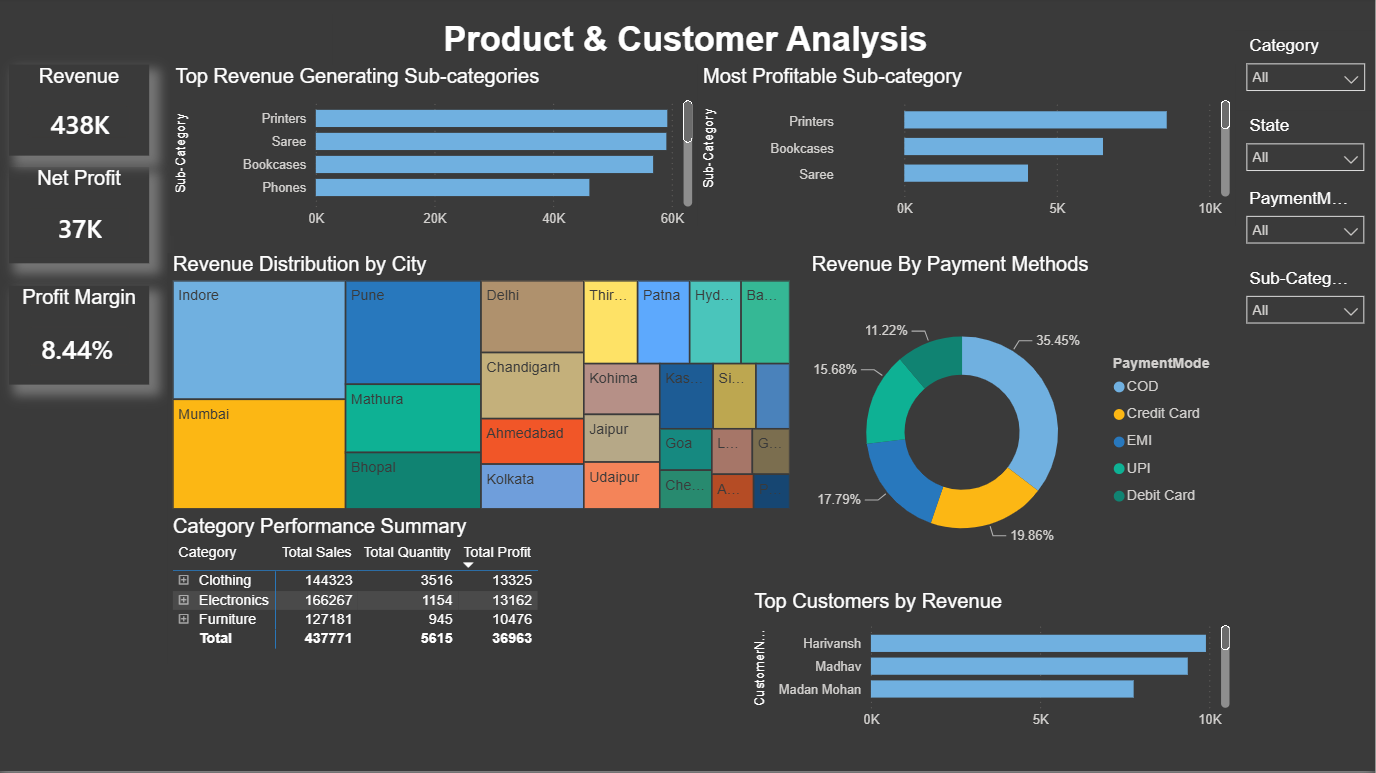

The dashboard page shown, as its layout file describes it:
{"tool":"powerbi","page":{"name":"Product & Customer Analysis","canvas":[1280,720],"ordinal":1},"visuals":[{"type":"textbox","box":[310.6,16.5,656.5,58.8],"z":0},{"type":"cardVisual","title":"Net Profit","fields":{"Data":["Orders.Total Profit"]},"box":[9.3,158.1,130.2,89.5],"z":1000},{"type":"cardVisual","title":"Profit Margin ","fields":{"Data":["Orders.Profit Margin"]},"box":[9.3,268.6,130.2,91.9],"z":2000},{"type":"cardVisual","title":"Revenue","fields":{"Data":["Orders.Total Sales"]},"box":[9.3,62.8,130.2,84.9],"z":3000},{"type":"clusteredBarChart","title":"Top Revenue Generating Sub-categories","fields":{"Category":["Details.Sub-Category"],"Y":["Orders.Total Sales"]},"box":[159.3,62.8,490.7,159.3],"z":4000},{"type":"clusteredBarChart","title":"Most Profitable Sub-category","fields":{"Category":["Details.Sub-Category"],"Y":["Orders.Total Profit"]},"box":[650,62.8,500,150],"z":5000},{"type":"donutChart","title":"Revenue By Payment Methods","fields":{"Category":["Details.PaymentMode"],"Y":["Orders.Total Sales"]},"box":[751.2,238.4,398.8,312.8],"z":6000},{"type":"pivotTable","title":"Category Performance Summary","fields":{"Rows":["Details.Category","Details.Sub-Category"],"Values":["Orders.Total Sales","Orders.Total Quantity","Orders.Total Profit"]},"box":[157,481.4,382.6,138.4],"z":7000},{"type":"clusteredBarChart","title":"Top Customers by Revenue","fields":{"Category":["Orders.CustomerName"],"Y":["Orders.Total Sales"]},"box":[697.7,551.2,452.3,137.2],"z":8000},{"type":"treemap","title":"Revenue Distribution by City","fields":{"Group":["Orders.City"],"Values":["Orders.Total Sales"]},"box":[157,238.4,583.7,243],"z":9000},{"type":"slicer","fields":{"Values":["Details.Category"]},"box":[1149.5,31.7,130.5,62.2],"z":10000},{"type":"slicer","fields":{"Values":["Details.Sub-Category"]},"box":[1150,247.7,130.2,67.4],"z":11000},{"type":"slicer","fields":{"Values":["Details.PaymentMode"]},"box":[1150,173.3,130.2,65.1],"z":12000},{"type":"slicer","fields":{"Values":["Orders.State"]},"box":[1150,105.8,130.2,72.1],"z":13000}]}

Visuals, with their boxes in screenshot pixels (x1, y1, x2, y2), scaled from the page's 1280x720 canvas onto the 1376x773 screenshot:
textbox: l=334, t=18, r=1040, b=81
"Net Profit" cardVisual: l=10, t=170, r=150, b=266
"Profit Margin " cardVisual: l=10, t=288, r=150, b=387
"Revenue" cardVisual: l=10, t=67, r=150, b=159
"Top Revenue Generating Sub-categories" clusteredBarChart: l=171, t=67, r=699, b=238
"Most Profitable Sub-category" clusteredBarChart: l=699, t=67, r=1236, b=228
"Revenue By Payment Methods" donutChart: l=808, t=256, r=1236, b=592
"Category Performance Summary" pivotTable: l=169, t=517, r=580, b=665
"Top Customers by Revenue" clusteredBarChart: l=750, t=592, r=1236, b=739
"Revenue Distribution by City" treemap: l=169, t=256, r=796, b=517
slicer - Details.Category: l=1236, t=34, r=1375, b=101
slicer - Details.Sub-Category: l=1236, t=266, r=1375, b=338
slicer - Details.PaymentMode: l=1236, t=186, r=1375, b=256
slicer - Orders.State: l=1236, t=114, r=1375, b=191
